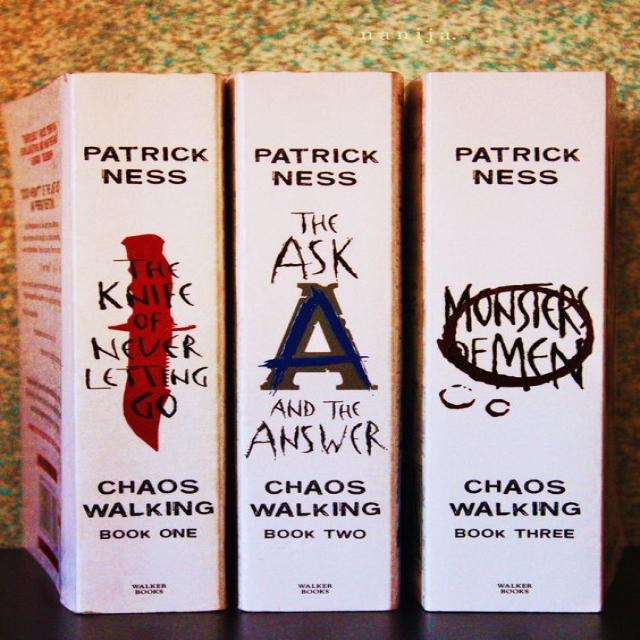book: (427, 72, 604, 611), (65, 73, 221, 613), (235, 72, 390, 609)
